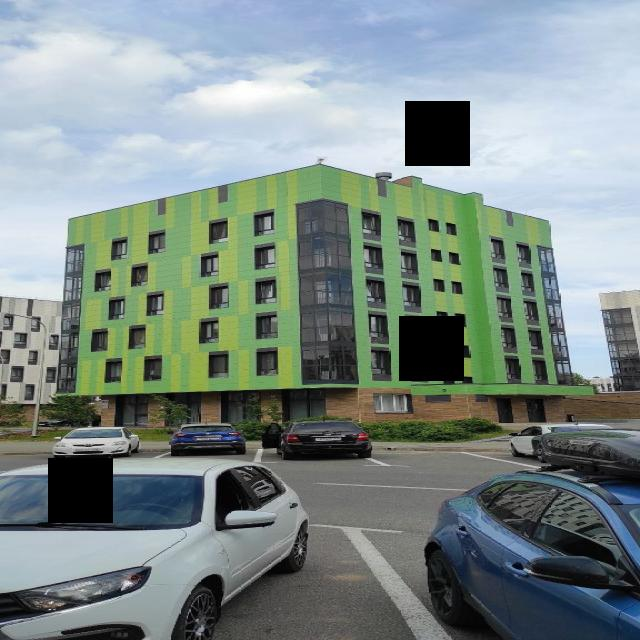Building: (59, 164, 594, 428)
